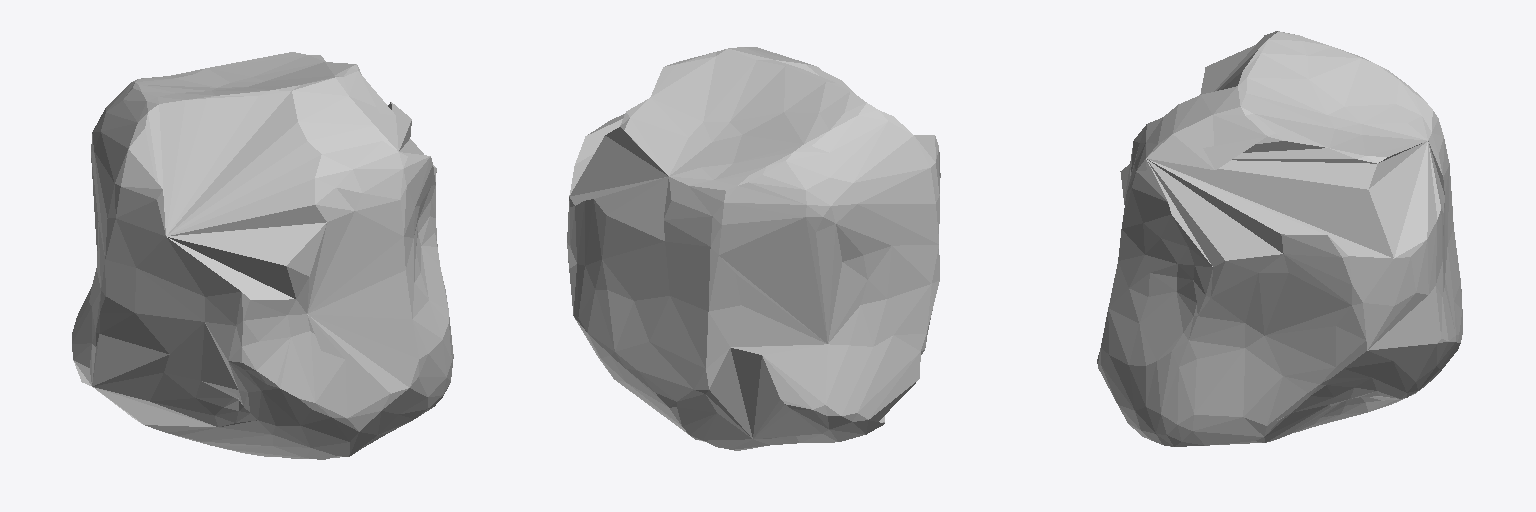
Rendered from Rock2MelonGameJam.obj.
The picture shows the model from 3 angles: view 1: azimuth 30°, elevation 25°; view 2: azimuth 150°, elevation 25°; view 3: azimuth 270°, elevation 25°; orthographic projection.
Parts seen in each view (by area): view 1: Cube; view 2: Cube; view 3: Cube.
Part boxes in pixels (bbox=[...]): Cube: bbox=[72, 52, 453, 459]; Cube: bbox=[567, 47, 940, 450]; Cube: bbox=[1097, 31, 1462, 446].
Bounding box in the file's own units: 2.08 × 2.22 × 2.05.